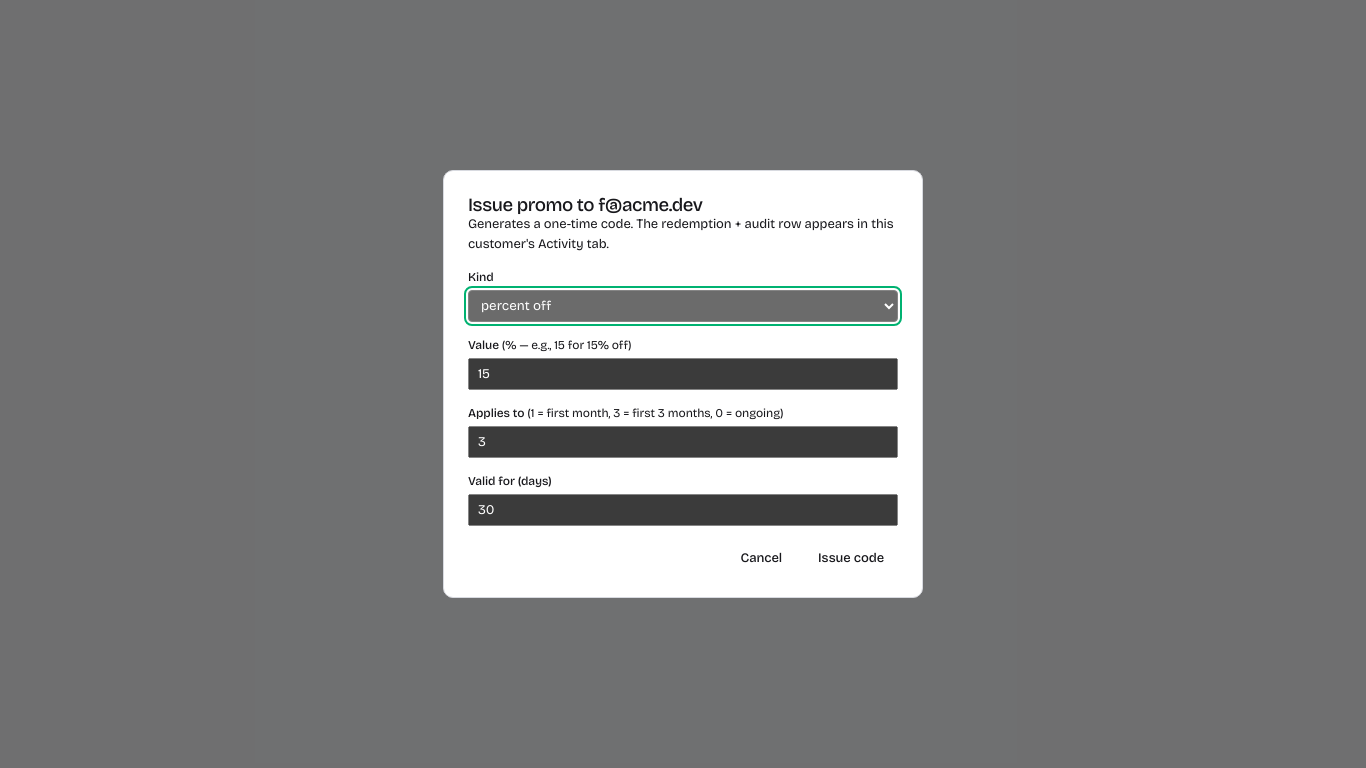
it: IssuePromoModal › shows "as configured" when there is no expiry
Click the button with test id "promo-submit" at {"x": 851, "y": 559}, box [804,544,898,573]
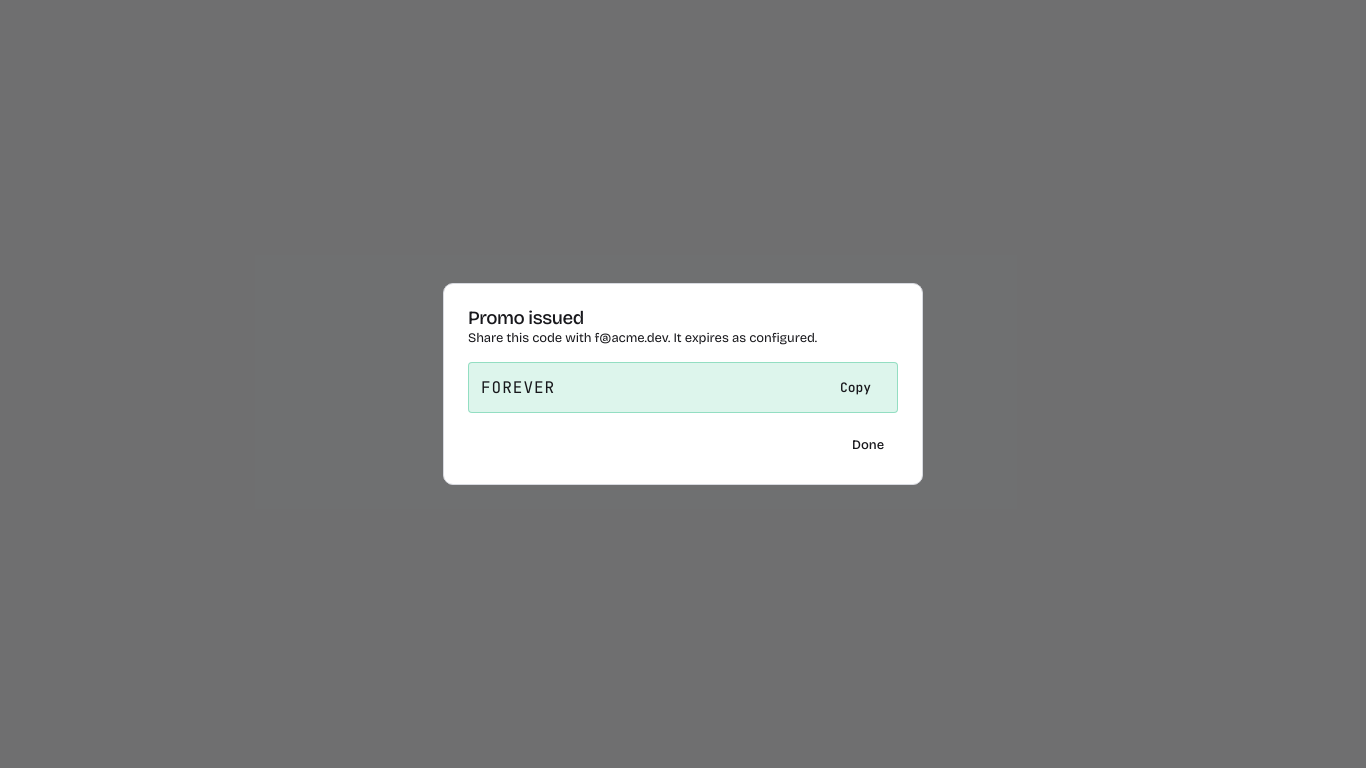
Expected: the text "Share this code with f@acme.dev. It expires as configured." is shown, [468,330,817,346]
